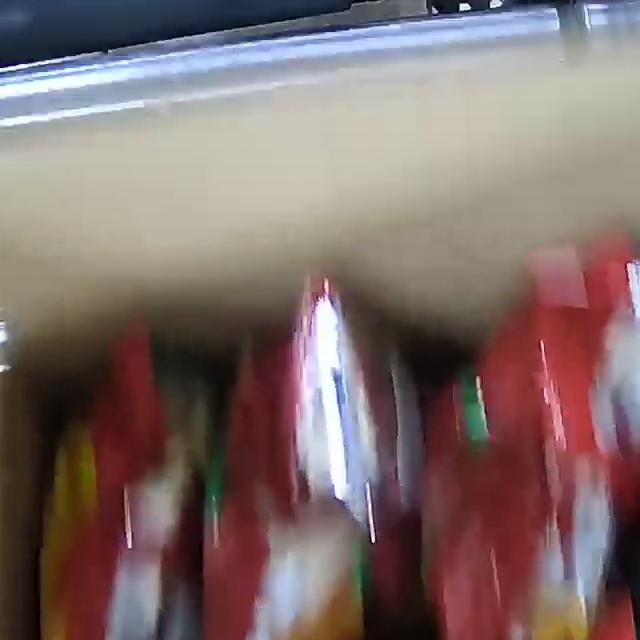masala: (33, 216, 640, 640)
